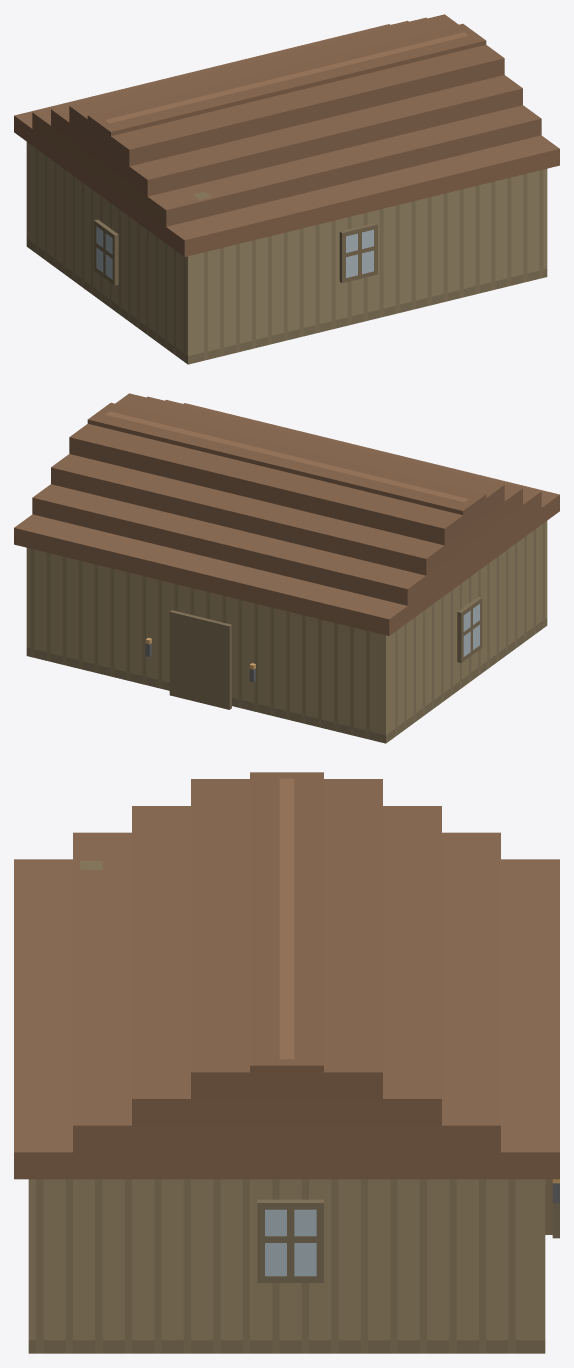
Rendered from hilanderia_01.glb.
The picture shows the model from 3 angles, top to bottom: view 1: azimuth 30°, elevation 25°; view 2: azimuth 150°, elevation 25°; view 3: azimuth 270°, elevation 25°; orthographic projection. The views are drawn at different scales.
Visible parts, largest first — view 1: hilanderia_01; view 2: hilanderia_01; view 3: hilanderia_01.
Boxes of the visible parts, x1=… form: hilanderia_01: x1=14, y1=14, x2=559, y2=364; hilanderia_01: x1=14, y1=393, x2=559, y2=743; hilanderia_01: x1=14, y1=772, x2=559, y2=1353.
Bounding box in the file's own units: 9.4 × 4.4 × 7.4.
